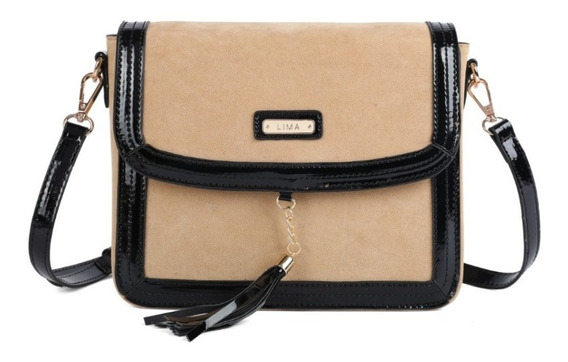cartera: (26, 17, 543, 340)
